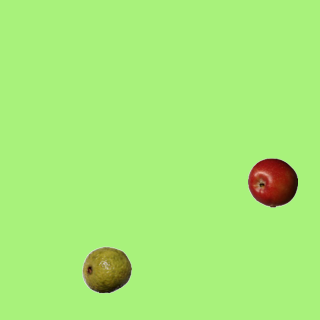Apple Braeburn: (247, 157, 297, 207)
Guava: (81, 244, 131, 294)
